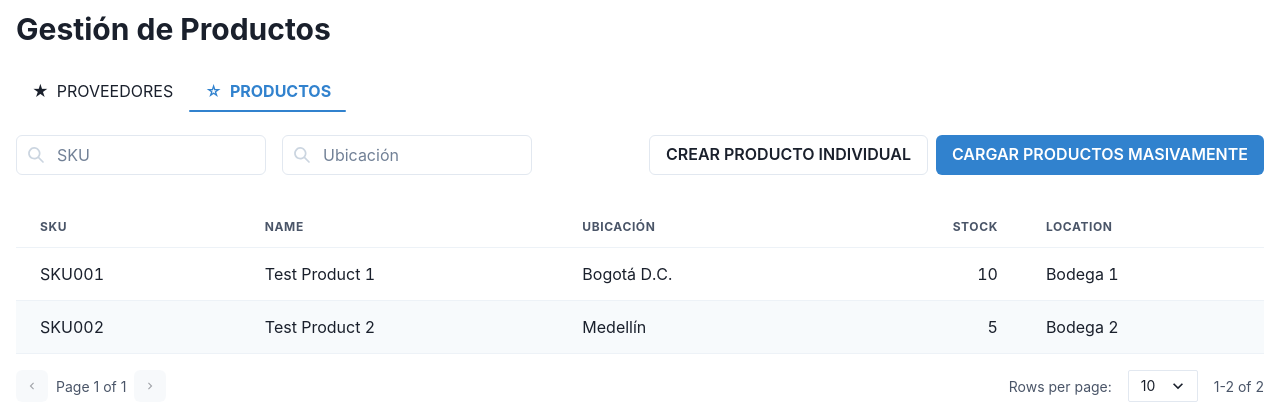
it: Products Component › filters products by SKU search
Expected: the text "SKU001" is shown, 16,248 -> 241,300
Type "SKU001" into the field with placeholder "SKU" at point(141, 155), box 16,135 -> 266,175
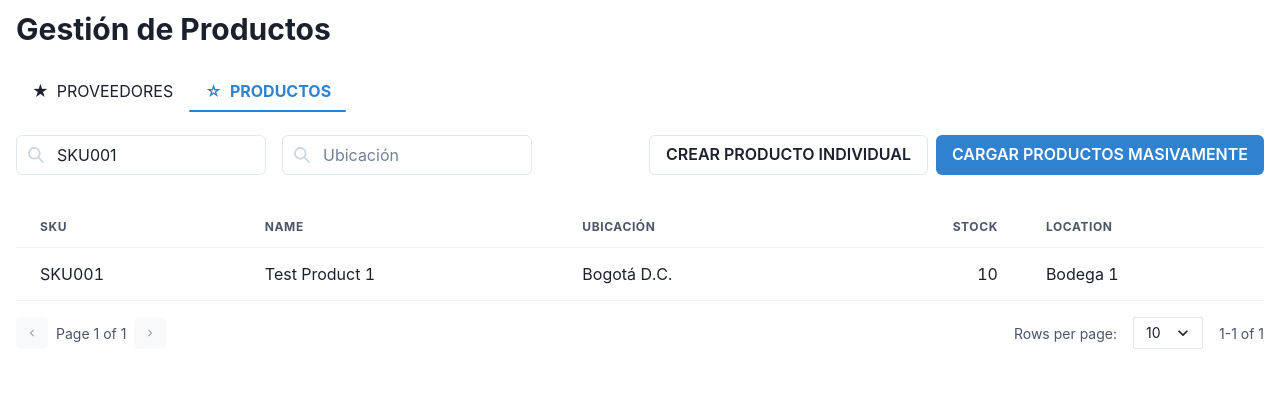
Expected: the text "SKU001" is shown, 16,248 -> 241,300
Now the text "SKU002" is gone
